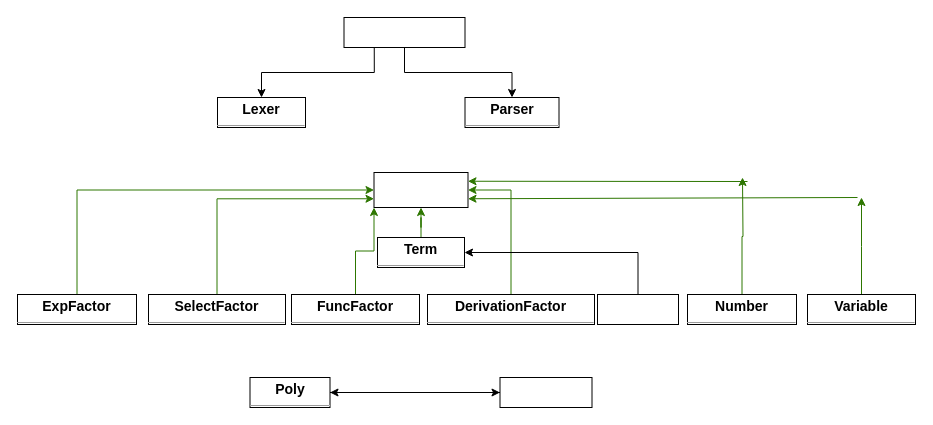
The diagram is 933 pixels wide and 425 high, and some of its shapes have lost their labels. Here are the shapes that lost their labels. From the top down, the centre of each, then its label:
At point 404,32: "MainClass".
At point 420,190: "<<interface>> Factor".
At point 637,309: "Expr".
At point 545,392: "Mono".
